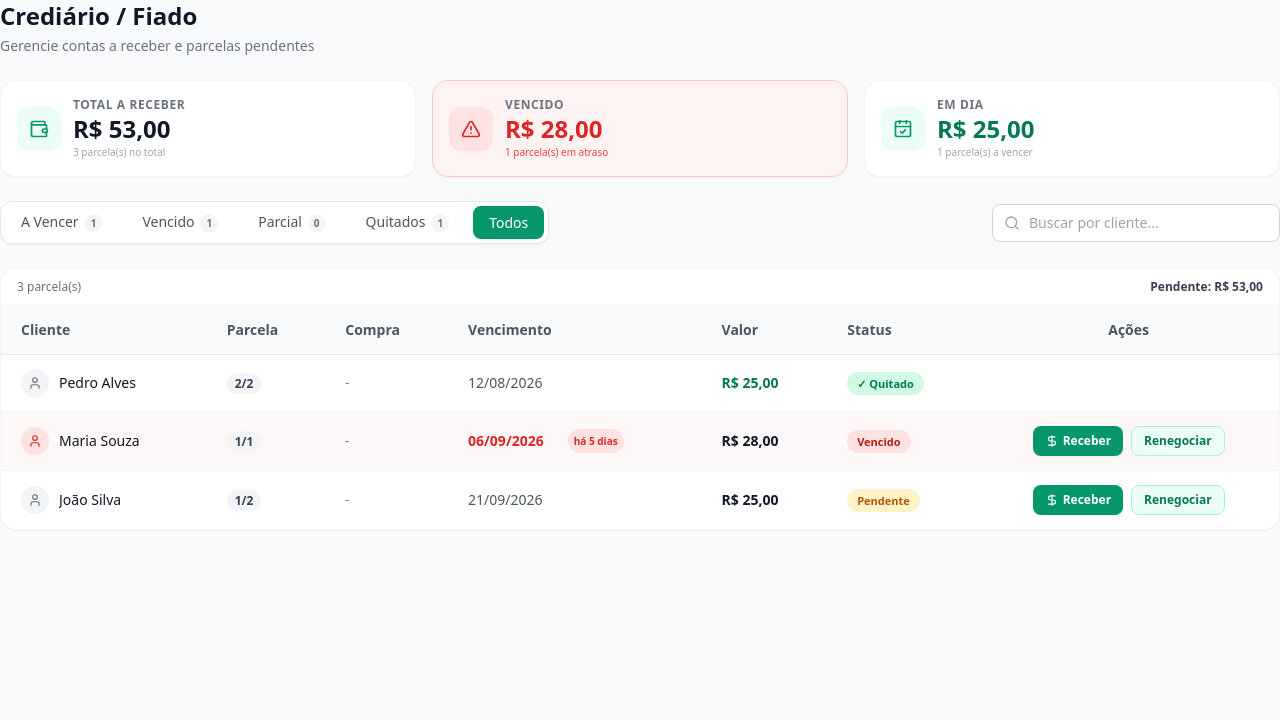
Test case: FiadoPage › opens pay modal on click
The width and height of the screenshot is (1280, 720).
What coordinates should you click on to do the following:
click the button "Receber" in the row of "Maria Souza"
I would click on:
 (1078, 441)
Its box is [1033,426,1123,456].
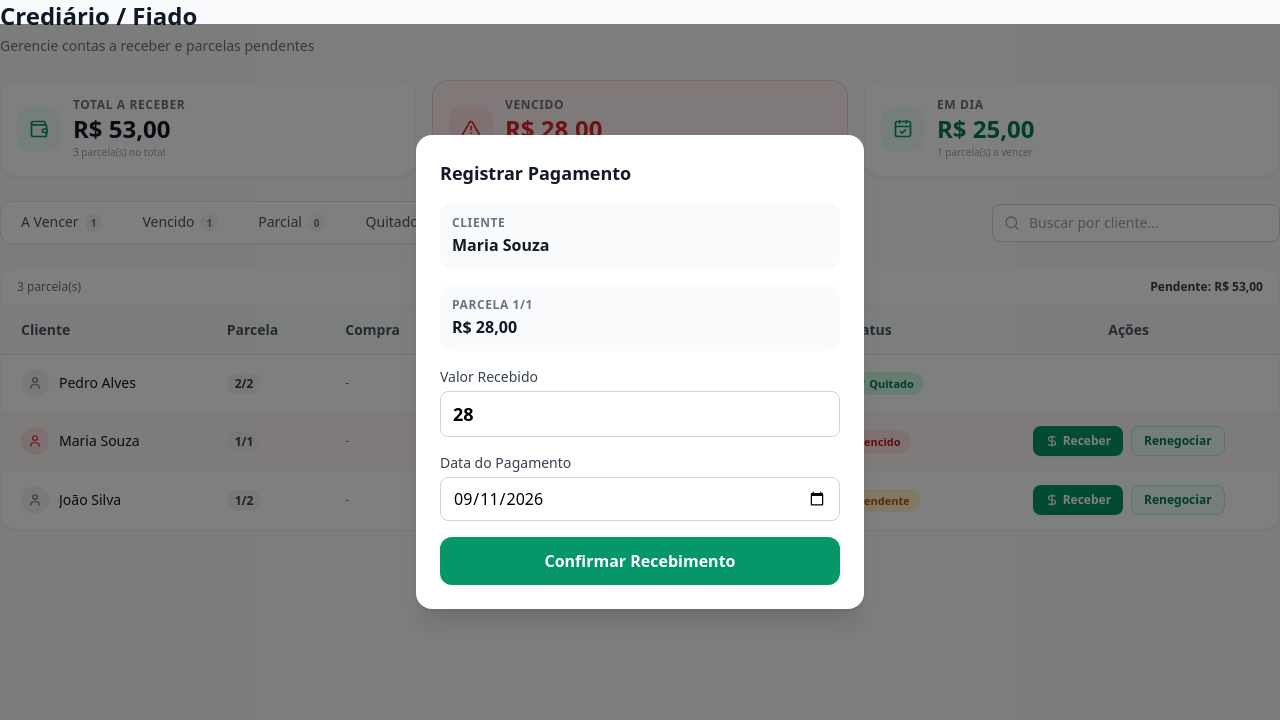
Expected: the heading "Registrar Pagamento" is shown, [440,161,631,185]
Expected: the button "Confirmar Recebimento" is shown, [440,537,840,585]
